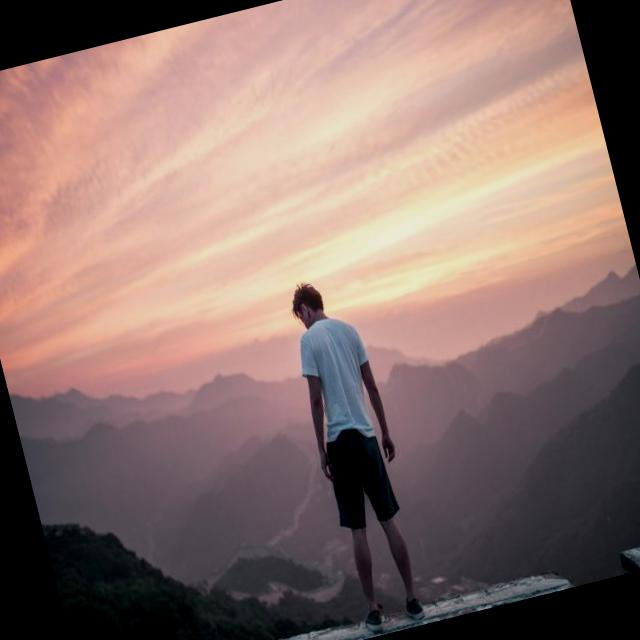person: (275, 270, 436, 636)
